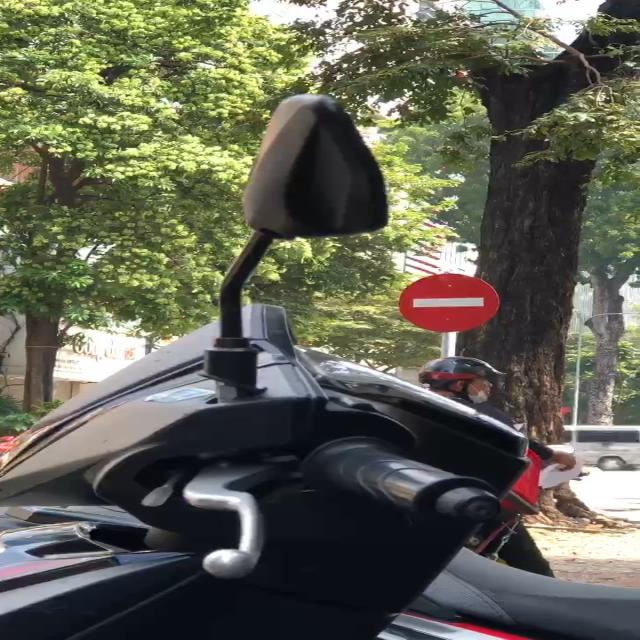Bien bao cam di nguoc chieu: (392, 270, 504, 335)
